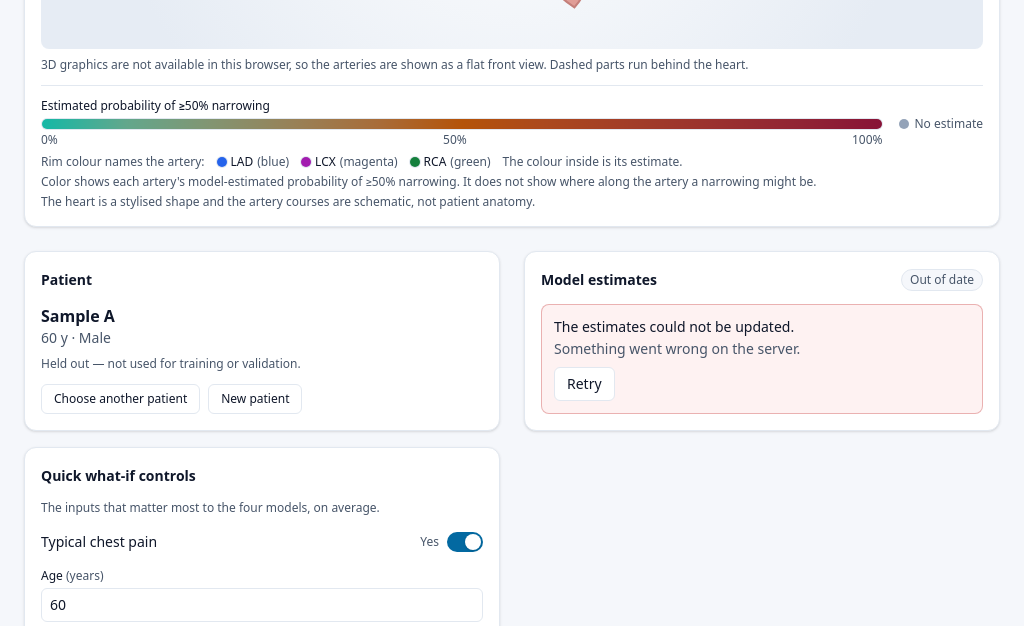
Test: end to end with a mocked API (T7.1) › shows a prediction failure with Retry and recovers
(page scrolled)
expect the message shows "The estimates could not be updated.": met, box [554,317,794,336]
expect the message shows "Something went wrong on the server.": met, box [554,339,800,358]
Click the button "Retry": {"x": 584, "y": 384} [554,367,615,401]
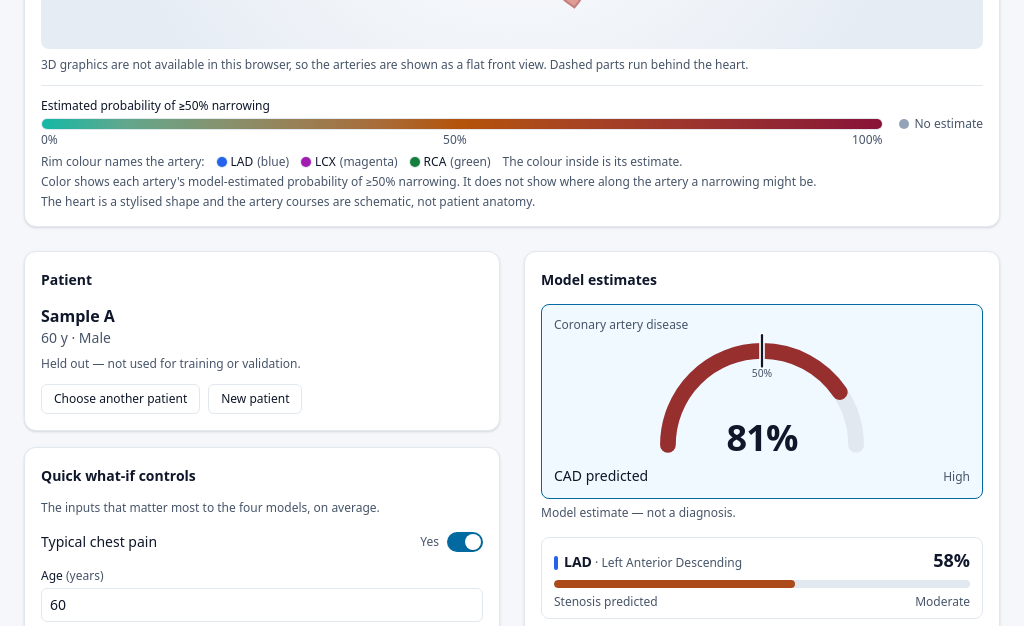
expect the button "Coronary artery disease 81% CAD predicted High" is shown: met, box [541,304,983,499]
